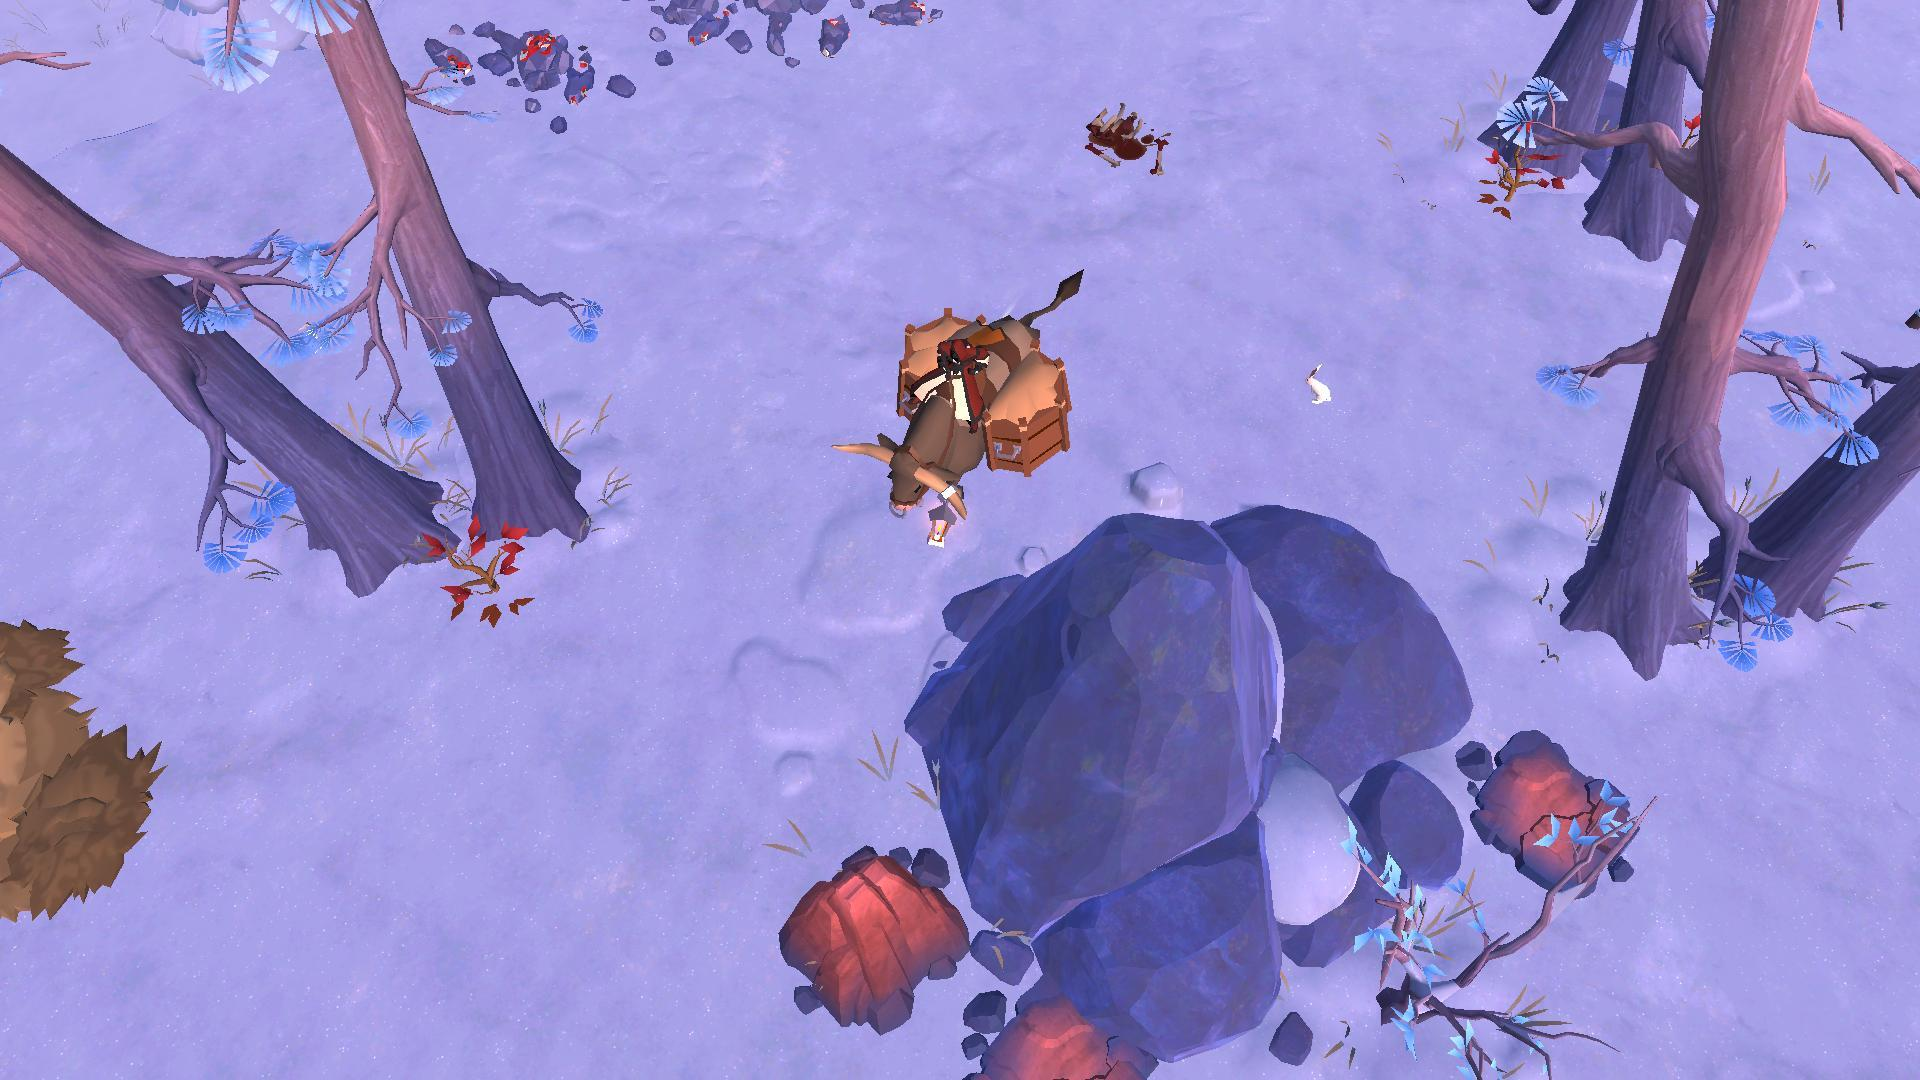rock_t5: (786, 851, 968, 1026)
